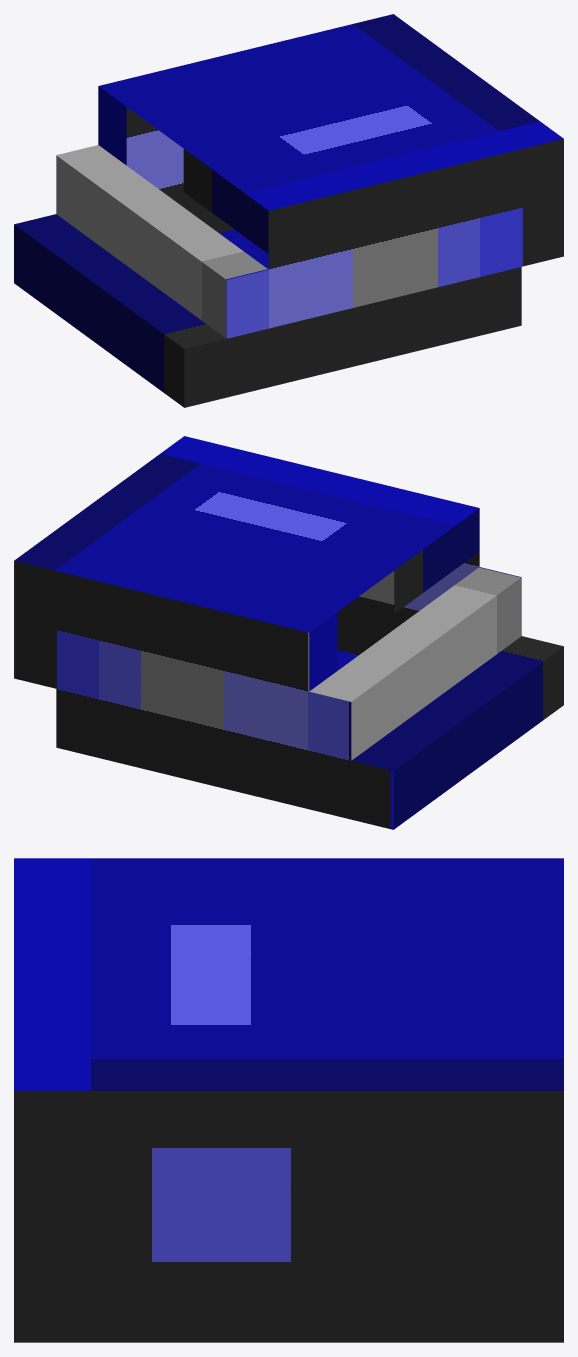
Rendered from book_0x282_16.obj.
The picture shows the model from 3 angles, top to bottom: view 1: azimuth 30°, elevation 25°; view 2: azimuth 150°, elevation 25°; view 3: azimuth 270°, elevation 25°; orthographic projection. The views are drawn at different scales.
Visible parts, largest first — view 1: Cube; view 2: Cube; view 3: Cube.
Boxes of the visible parts, x1,y1,x2,y2 form: Cube: (14, 14, 563, 407); Cube: (14, 436, 563, 829); Cube: (14, 858, 563, 1342).
Bounding box in the file's own units: 0.5625 × 0.25 × 0.4375.
